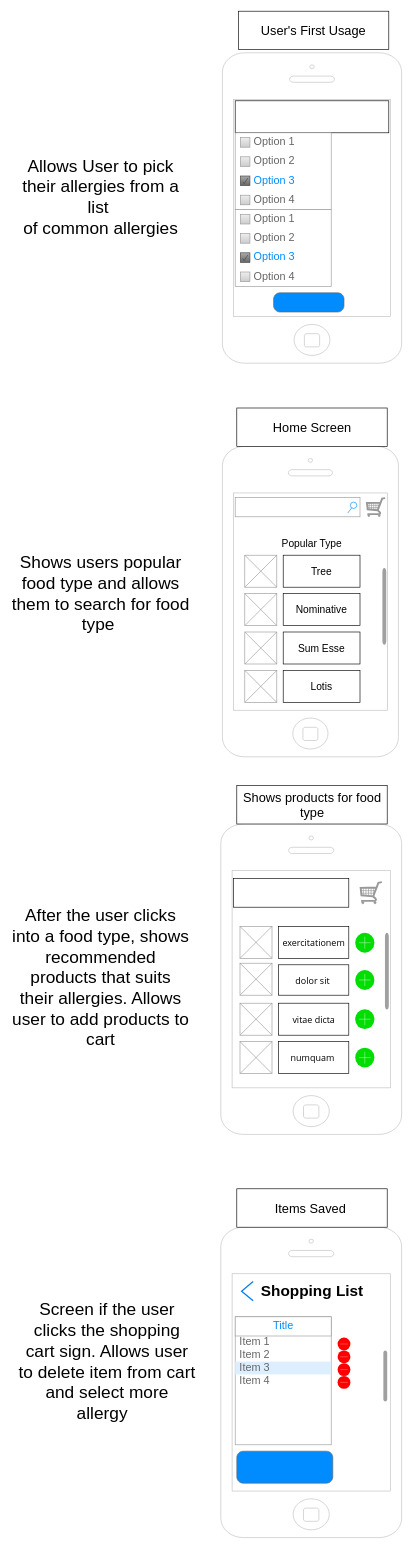
This 413x1549 diagram has some shape labels left out. Each missing label, with the centre of its shape:
Add More Allergy: the point at 284,1467
Continue: the point at 308,302
Recommended Products: the point at 291,892
Select Allergy: the point at 312,116
Serach Food Type: the point at 297,507
